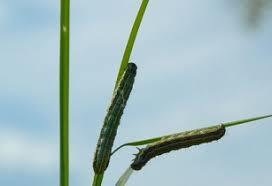fallarmy_worm: (91, 62, 139, 174), (130, 124, 232, 171)
